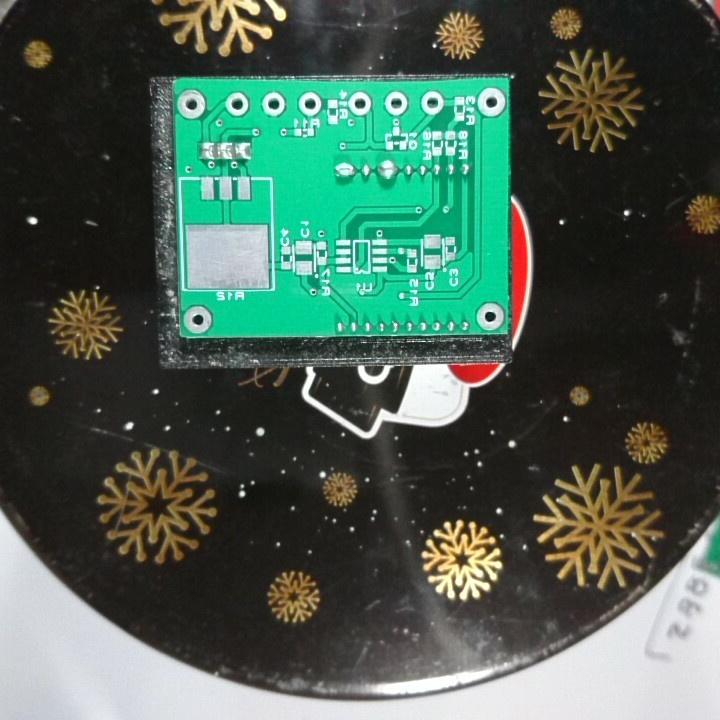F: (474, 86, 506, 120), (174, 89, 208, 121), (180, 304, 214, 335), (474, 300, 505, 332), (258, 90, 288, 120), (383, 89, 411, 118), (346, 89, 374, 118), (222, 91, 252, 118), (295, 90, 323, 118), (418, 87, 444, 117)
P: (332, 160, 357, 183), (374, 159, 399, 181)
